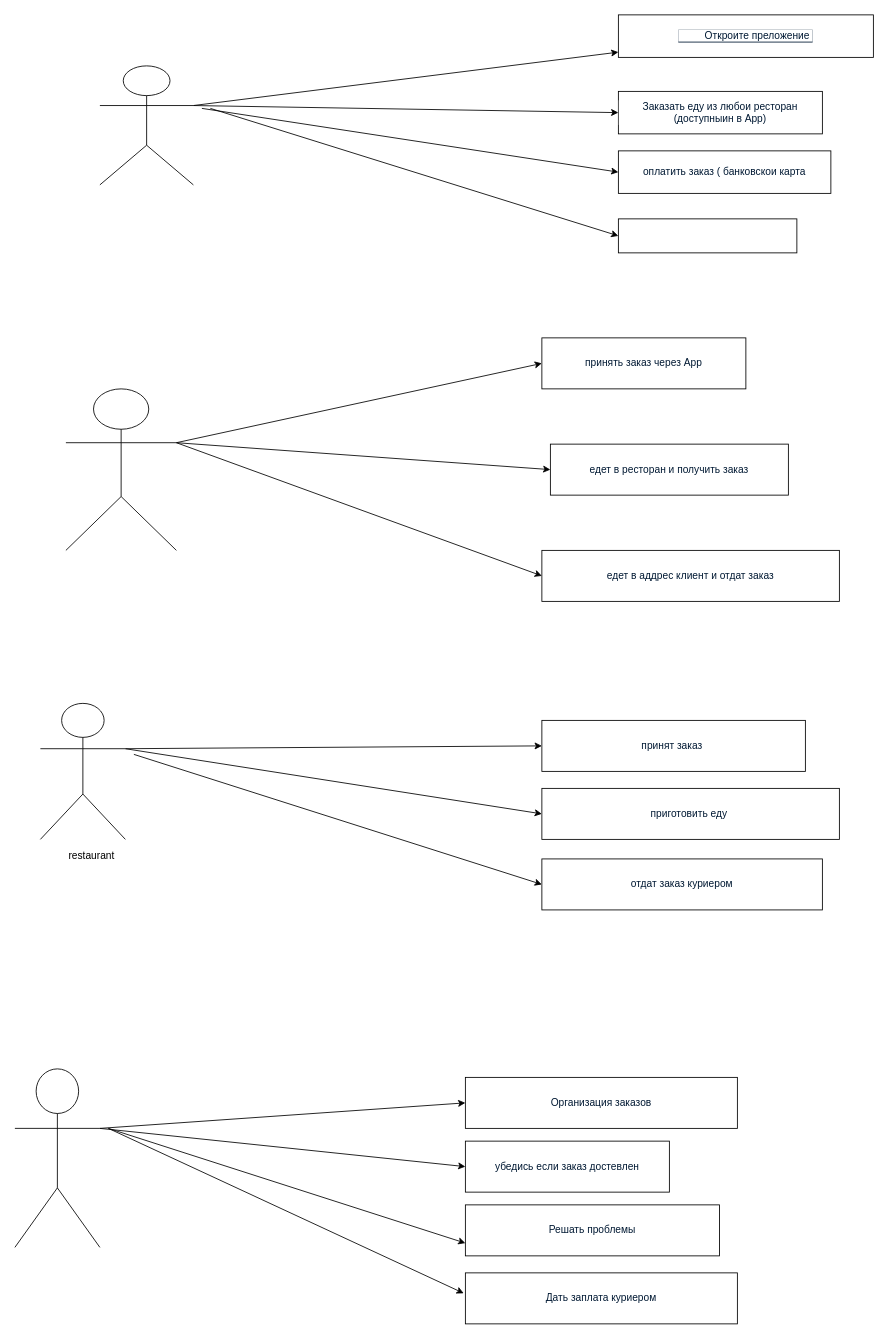
Image size: 888x1339. Some labels were removed from this diagram. Here are the shapes that lost their labels. From the top down, the box of each, then its label:
(99, 65, 193, 185): Klient
(618, 218, 797, 253): получить заказ
(65, 388, 176, 550): kourier
(14, 1068, 100, 1247): company
